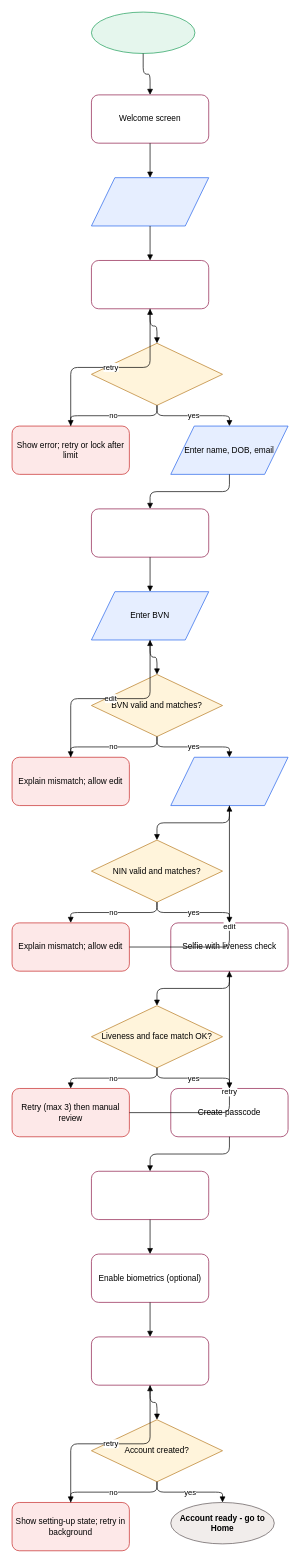
Some shapes in this 300 by 1563 pixel diagram are drawn without their labels. The centre of each missing label's shape, as x and y in pixels:
Accept terms and privacy (versioned): [150,532]
Create account via foundation bank; assign tier: [150,1360]
Create transaction PIN: [150,1195]
Enter NIN: [229,781]
Enter phone number: [150,201]
Open app: [143,32]
OTP correct?: [157,374]
Send OTP: [150,284]
